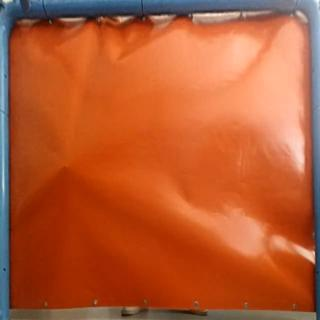Hit-hRxx: (59, 159, 75, 173)
